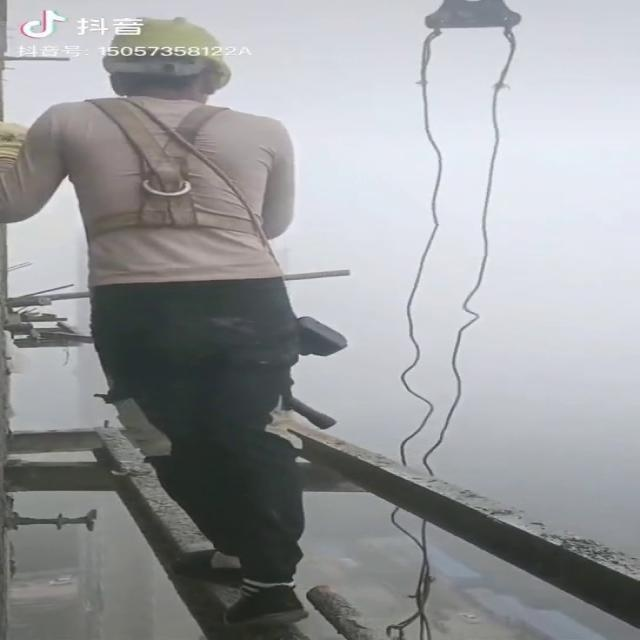Arnes_seguridad: (43, 94, 297, 255)
